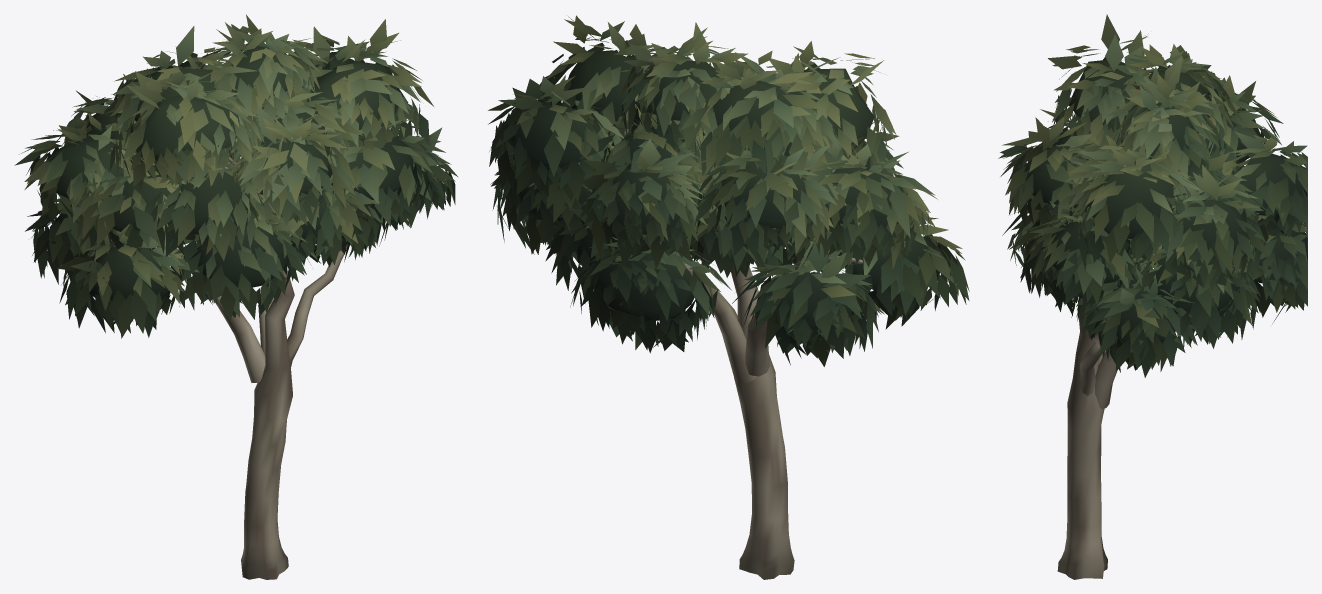
File: street_tree_b.glb
3 renders of one model, left to right at view 1: azimuth 30°, elevation 25°; view 2: azimuth 150°, elevation 25°; view 3: azimuth 270°, elevation 25°, orthographic. The views are drawn at different scales.
Visible parts, largest first — view 1: Foliage, Trunk; view 2: Foliage, Trunk; view 3: Foliage, Trunk.
Part boxes in pixels (box(x1,y1,x2,y2)): Foliage: box(14, 14, 457, 338); Trunk: box(164, 120, 347, 579); Foliage: box(488, 15, 969, 366); Trunk: box(683, 175, 862, 579); Foliage: box(998, 14, 1307, 377); Trunk: box(1057, 213, 1259, 579).
Size of the model in its own units: 9.1 by 11.16 by 6.1.
